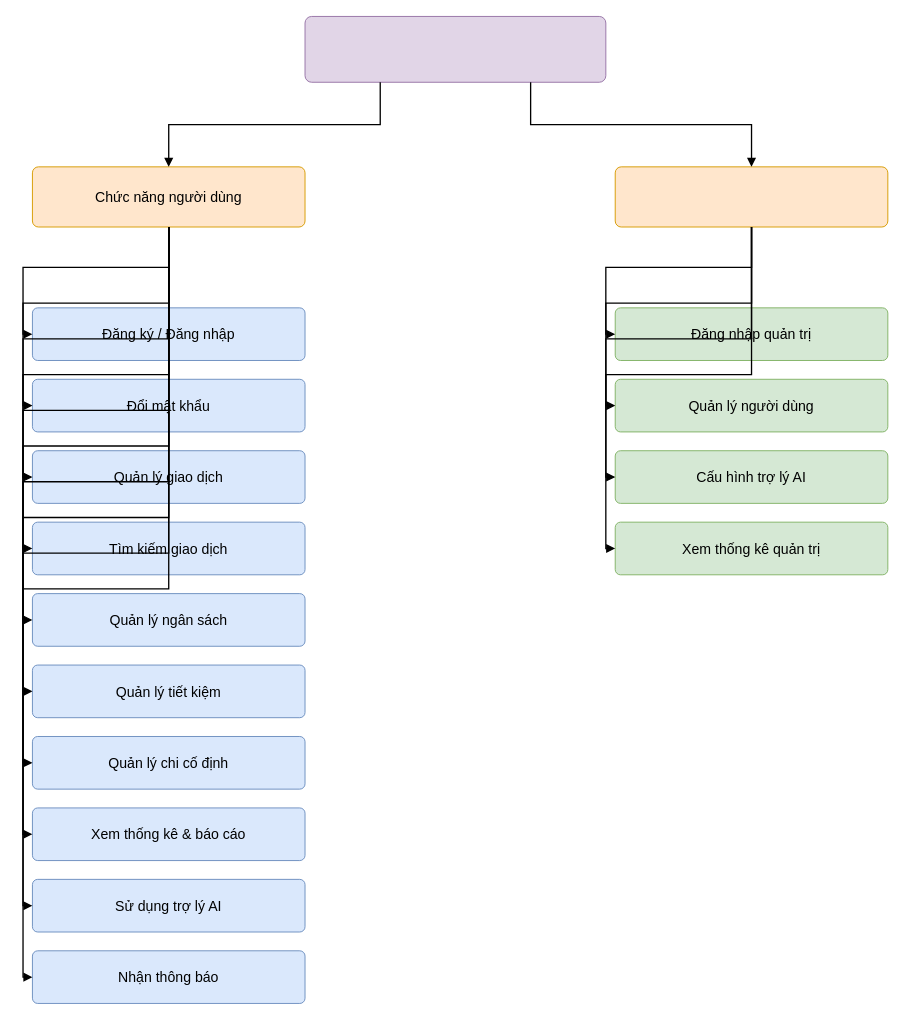
Some shapes in this 905 by 1020 pixel diagram are drawn without their labels. Here are the shapes that lost their labels. From the top down, the centre of each, then its label:
the point at 455,49: Website ChiLotus
the point at 751,196: Chức năng quản trị viên
